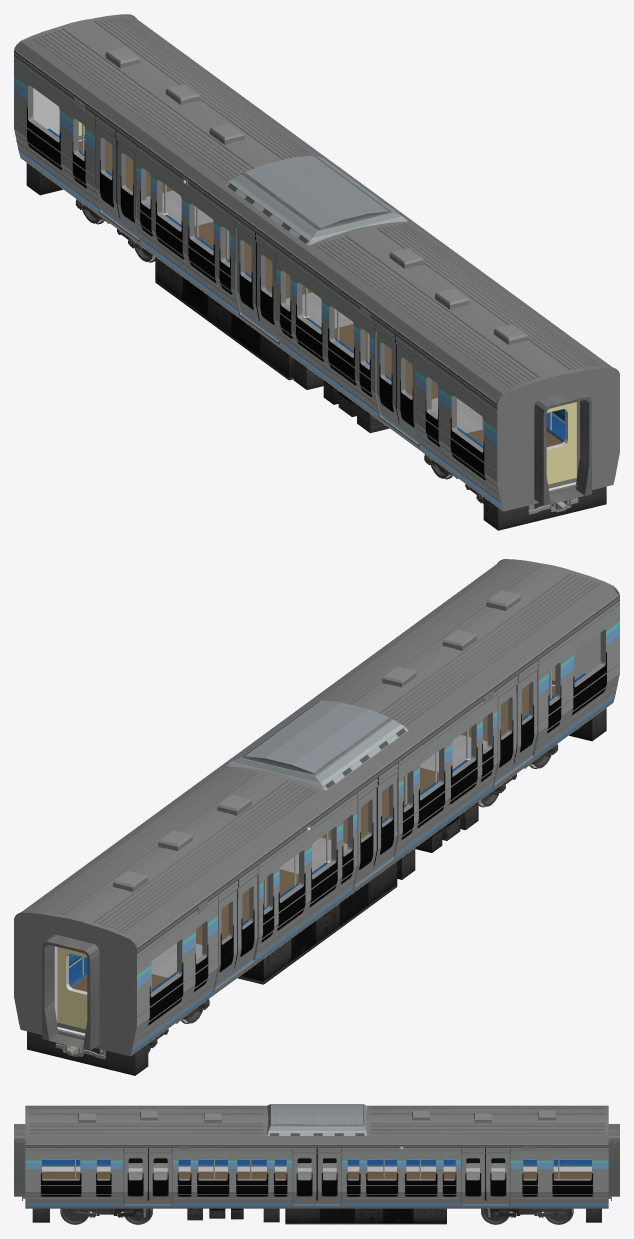
File: class211_m.obj
3 views of the same model, one above another, from view 1: azimuth 30°, elevation 25°; view 2: azimuth 150°, elevation 25°; view 3: azimuth 270°, elevation 25° (orthographic). The views are drawn at different scales.
Visible parts, largest first — view 1: m_base, m_side, m_jibungbid, m_air, m_habu, m_floor, m_door_RB, m_door_RF, m_mak, m_backin, m_seat, m_DT71; view 2: m_base, m_side, m_jibungbid, m_air, m_habu, m_floor, m_door_RF, m_door_RB, m_mak, m_backin, m_seat, m_DT71; view 3: m_side, m_base, m_jibungbid, m_air, m_habu, m_door_LB, m_door_LF, m_floor, m_seat, m_DT71, m_mak, m_inside (+2 smaller).
Boxes of the visible parts, x1,y1,x2,y2 form: m_base: [14, 14, 619, 510]; m_side: [14, 50, 619, 511]; m_jibungbid: [14, 16, 600, 502]; m_air: [105, 47, 528, 344]; m_habu: [26, 163, 606, 530]; m_floor: [78, 139, 562, 446]; m_door_RB: [96, 126, 400, 430]; m_door_RF: [116, 140, 418, 443]; m_mak: [534, 390, 591, 505]; m_backin: [33, 88, 579, 490]; m_seat: [47, 124, 564, 447]; m_DT71: [75, 199, 483, 504]; m_base: [14, 559, 619, 1056]; m_side: [14, 594, 619, 1056]; m_jibungbid: [16, 561, 619, 1047]; m_air: [113, 590, 520, 892]; m_habu: [27, 708, 606, 1075]; m_floor: [72, 684, 555, 991]; m_door_RF: [233, 670, 537, 974]; m_door_RB: [215, 685, 516, 987]; m_mak: [42, 934, 99, 1050]; m_backin: [54, 633, 600, 1035]; m_seat: [69, 668, 586, 992]; m_DT71: [148, 744, 558, 1052]; m_side: [25, 1144, 608, 1208]; m_base: [25, 1105, 608, 1143]; m_jibungbid: [25, 1107, 608, 1205]; m_air: [78, 1104, 555, 1135]; m_habu: [32, 1208, 601, 1224]; m_door_LB: [148, 1153, 509, 1204]; m_door_LF: [124, 1153, 485, 1204]; m_floor: [42, 1171, 591, 1178]; m_seat: [42, 1158, 591, 1178]; m_DT71: [60, 1208, 573, 1224]; m_mak: [14, 1124, 619, 1196]; m_inside: [42, 1166, 591, 1171].
Bounding box in the file's own units: 2.93 × 3.88 × 20.18.
